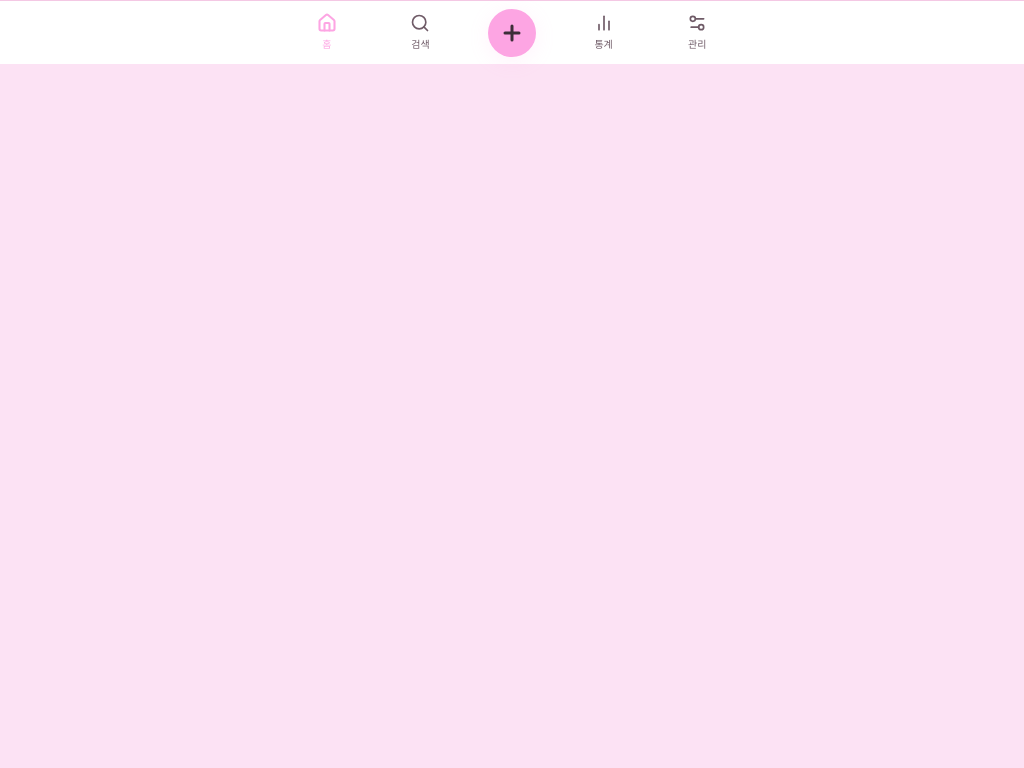
Test case: BottomNav › 등록 방식 선택 시트 › 카메라 지원 시 카메라 입력이 표시된다
Click the button named "거래 등록 방식 선택": click(512, 32) [488,8,536,56]
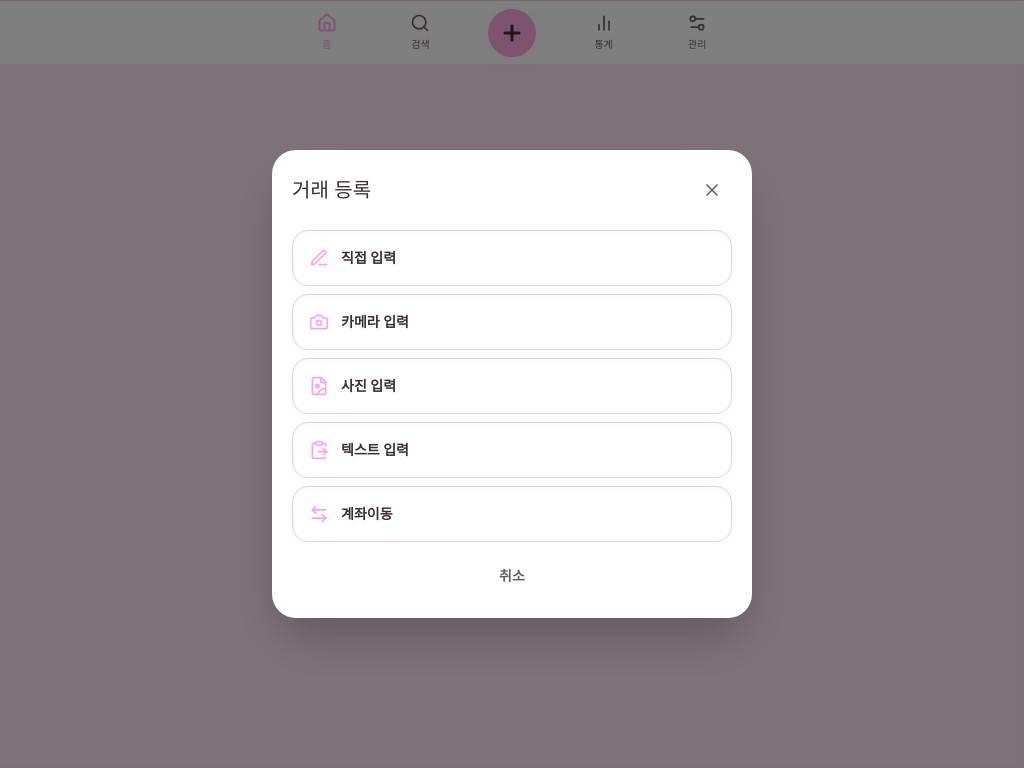
Expected: the text "카메라 입력" is shown, [341,312,409,332]
